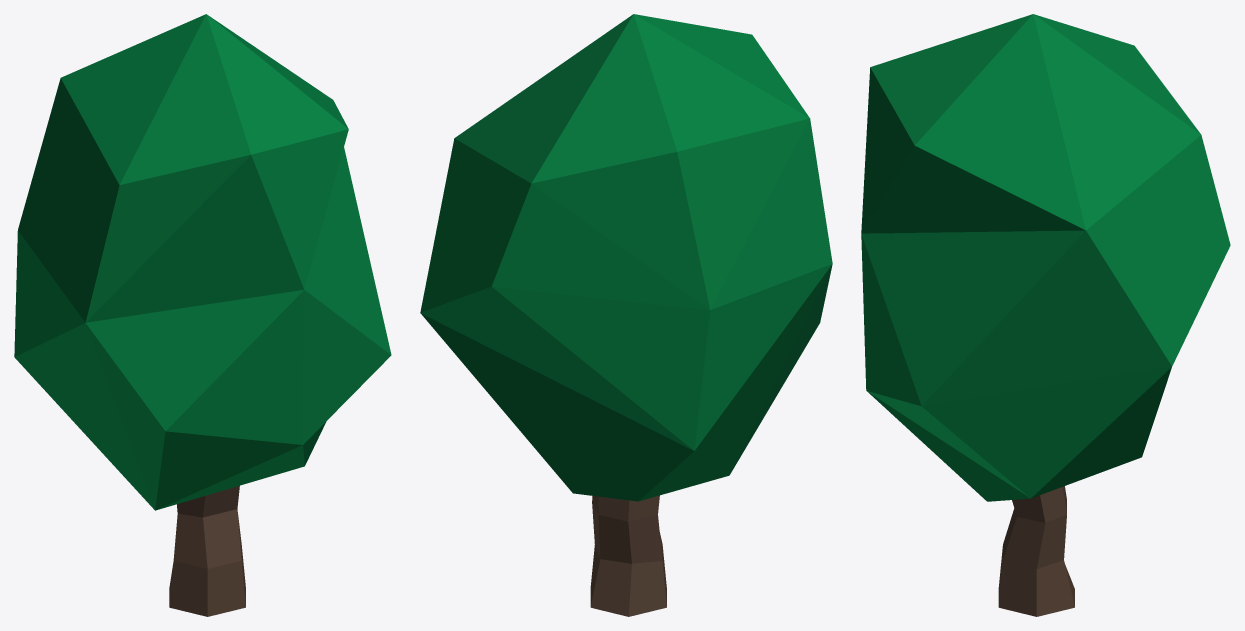
File: DeciduousTree_01.fbx
3 renders of one model, left to right at view 1: azimuth 30°, elevation 25°; view 2: azimuth 150°, elevation 25°; view 3: azimuth 270°, elevation 25°, orthographic.
Parts seen in each view (by area): view 1: Leaves, Branch; view 2: Leaves, Branch; view 3: Leaves, Branch.
Boxes of the visible parts, bbox=[...] form: Leaves: bbox=[14, 14, 391, 510]; Branch: bbox=[169, 485, 245, 616]; Leaves: bbox=[420, 14, 832, 501]; Branch: bbox=[590, 495, 666, 616]; Leaves: bbox=[861, 14, 1230, 501]; Branch: bbox=[998, 486, 1074, 616].
Bounding box in the file's own units: 2.31 × 4.11 × 2.36.
